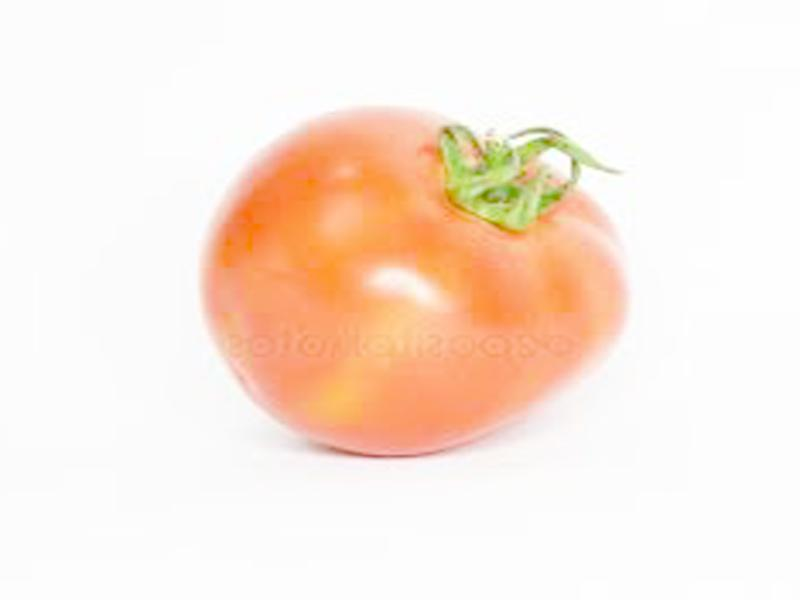Tomato: (201, 100, 628, 455)
